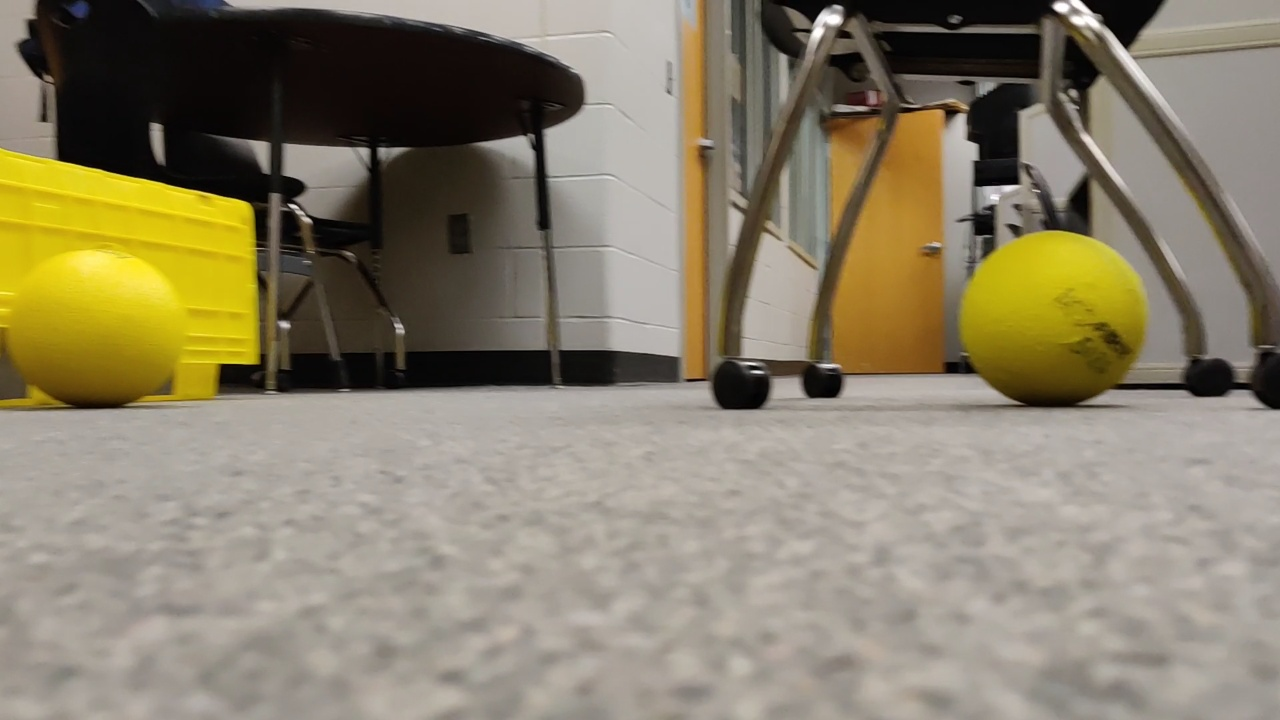Ball: (958, 231, 1140, 408), (6, 249, 187, 402)
